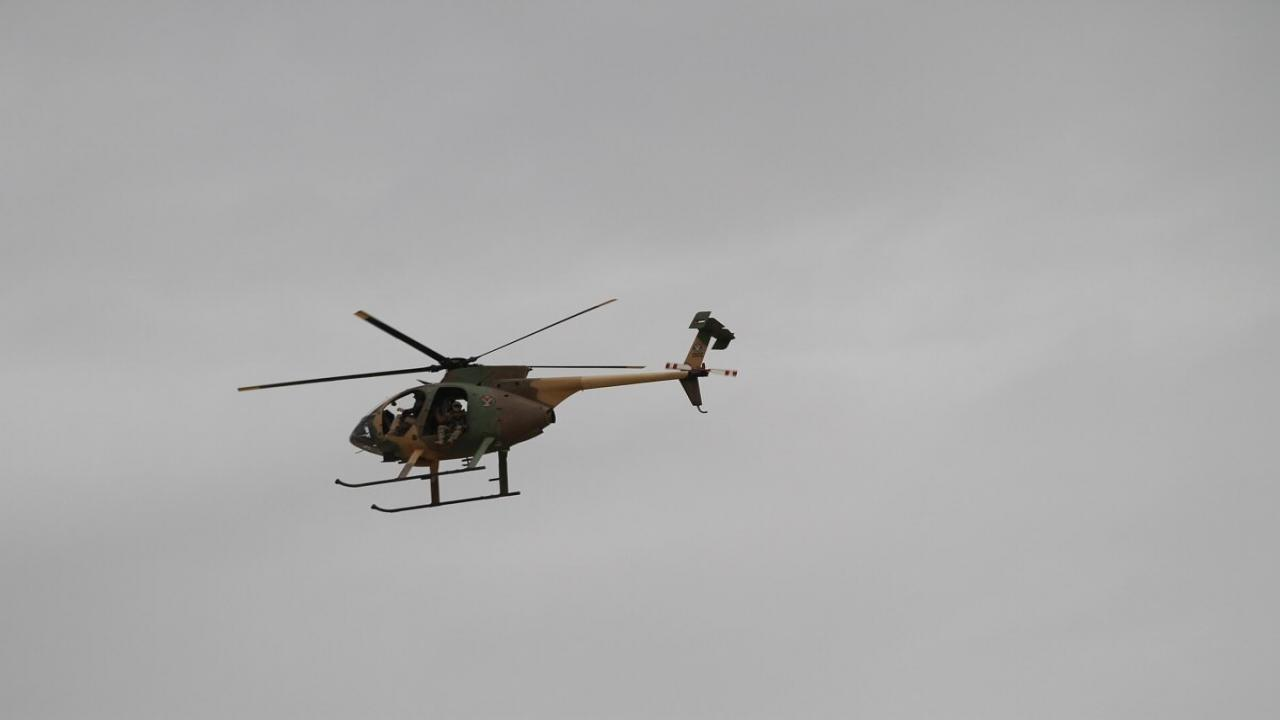Helicopter: (212, 270, 763, 536)
